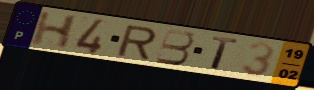3: (239, 40, 278, 79)
4: (74, 18, 105, 56)
B: (153, 27, 196, 67)
H: (28, 10, 81, 51)
R: (114, 24, 159, 61)
T: (209, 35, 240, 72)
